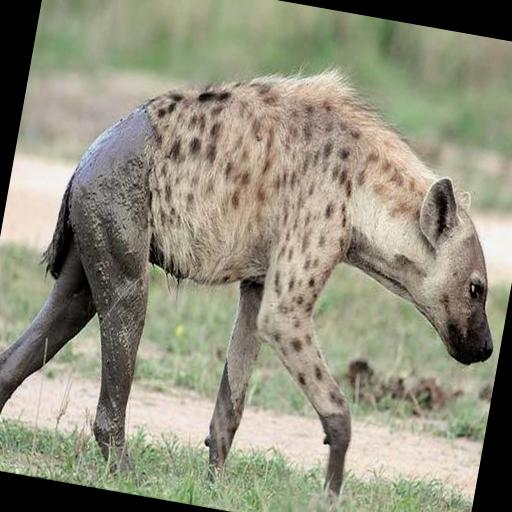hyenas: (10, 40, 512, 512)
